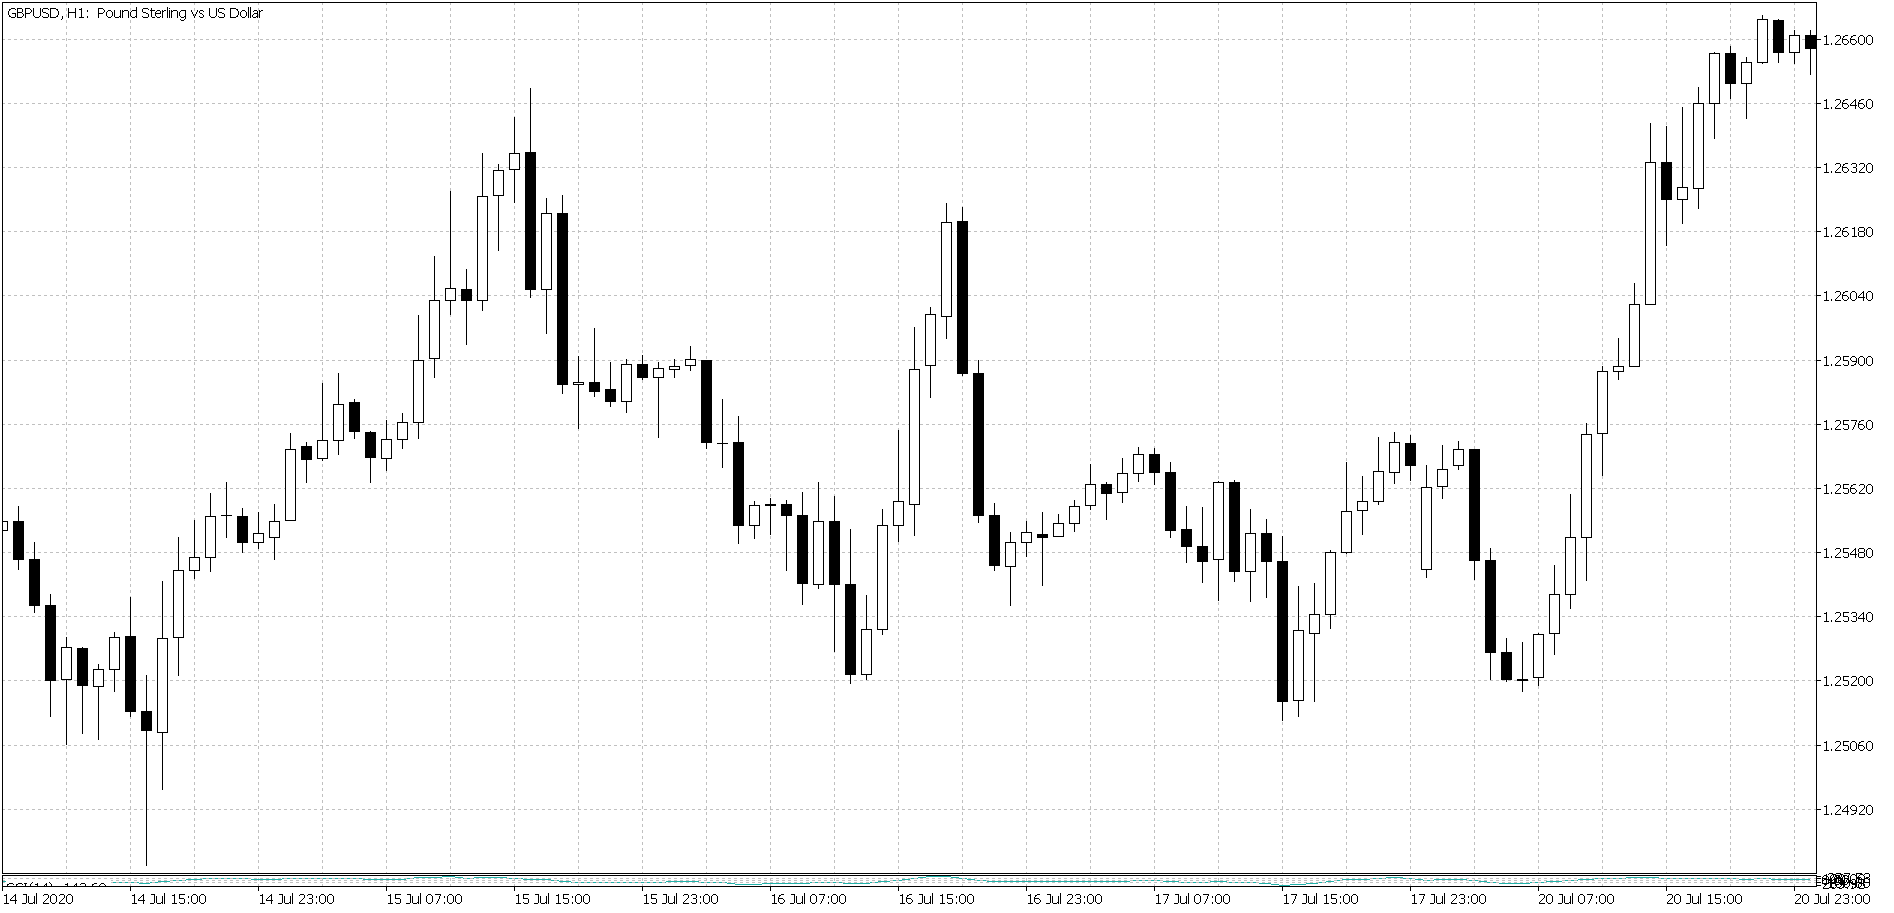bearishEngulfing: (939, 191, 970, 380)
eveningDojiStar: (202, 484, 252, 585)
morningDojiStar: (1500, 629, 1544, 699)
